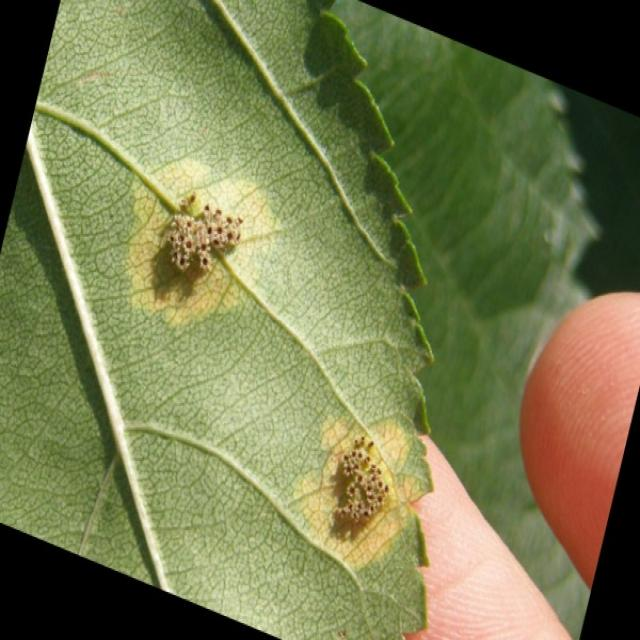Gymnosporangium_Rusts: (126, 136, 266, 330), (292, 385, 422, 590)
